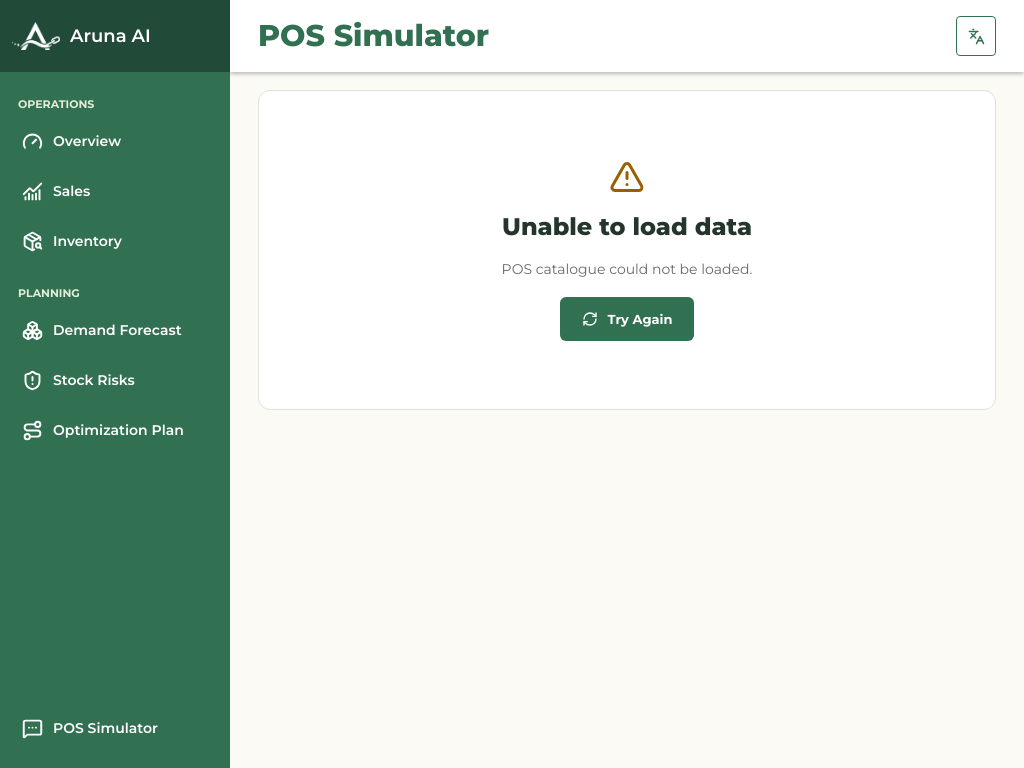
Inventory page states › retries a failed query and then shows a successful empty response
Expected: the message "Unable to load data POS catalogue could not be loaded. Try Again" is shown, top-left (258, 90), bottom-right (996, 410)
Click the button "Try Again". click: (627, 320)
box: top-left (560, 298), bottom-right (694, 342)
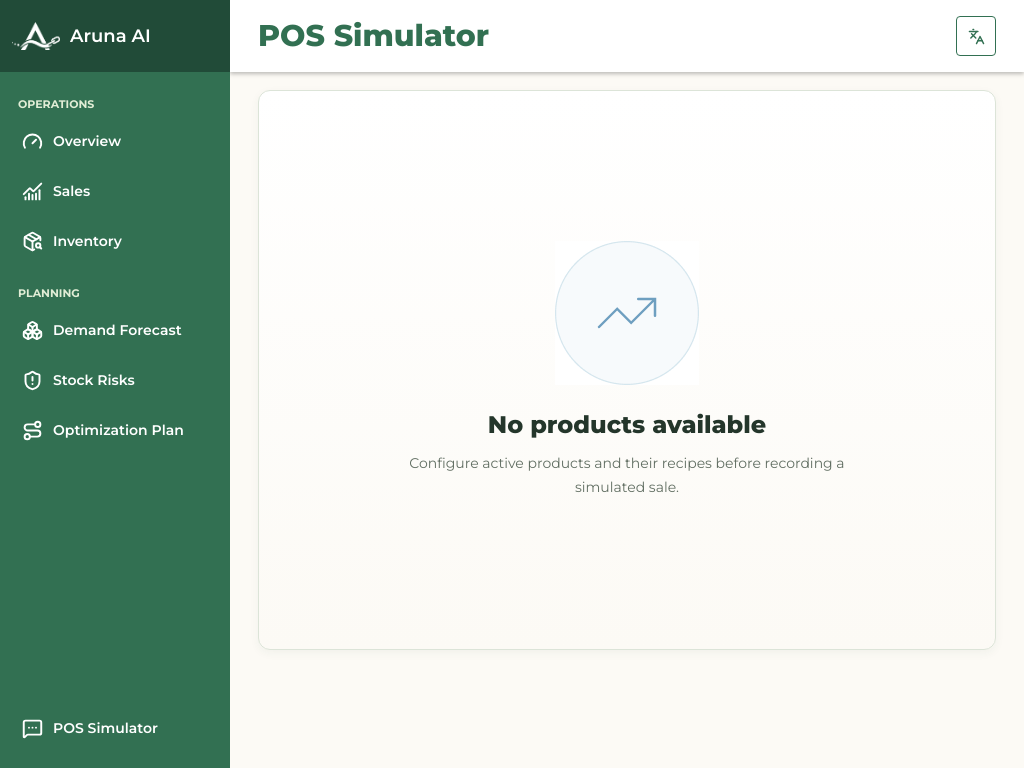
Result: the heading "No products available" is shown at top-left (488, 410), bottom-right (766, 439)
Result: the message "Unable to load data POS catalogue could not be loaded. Try Again" is gone
